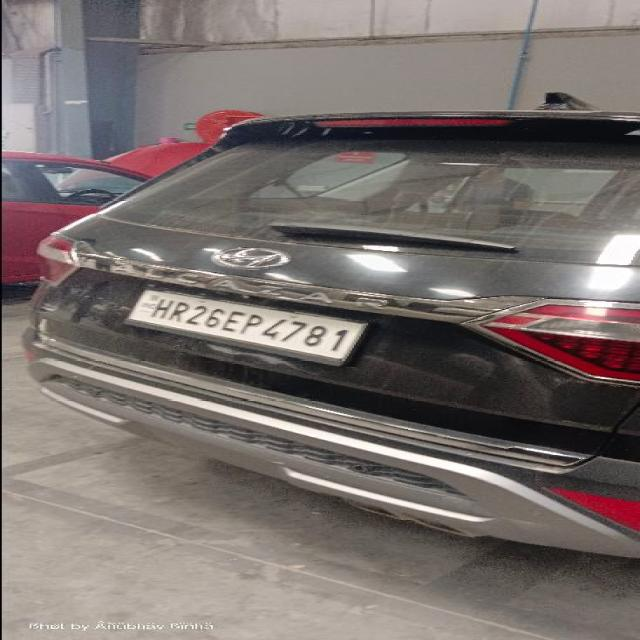license_plate: (122, 286, 370, 367)
